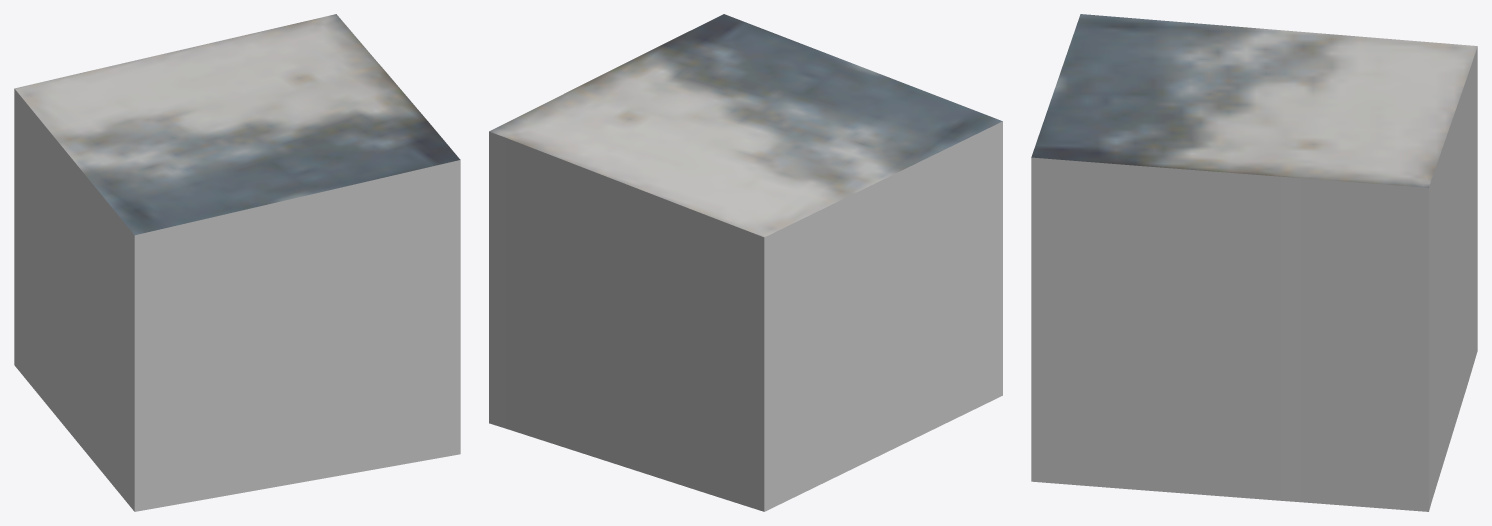
Rendered from DEBW_0010007Tx5i.gltf.
3 renders of one model, left to right at view 1: azimuth 30°, elevation 25°; view 2: azimuth 150°, elevation 25°; view 3: azimuth 270°, elevation 25°, orthographic. The views are drawn at different scales.
Parts seen in each view (by area): view 1: Z_UP; view 2: Z_UP; view 3: Z_UP.
Part boxes in pixels (box(x1,y1,x2,y2)): Z_UP: box(14, 14, 460, 511); Z_UP: box(489, 14, 1002, 511); Z_UP: box(1031, 14, 1477, 511).
Bounding box in the file's own units: 9.76 × 7.63 × 9.52.
Materials: 2 (1 with a texture image).
